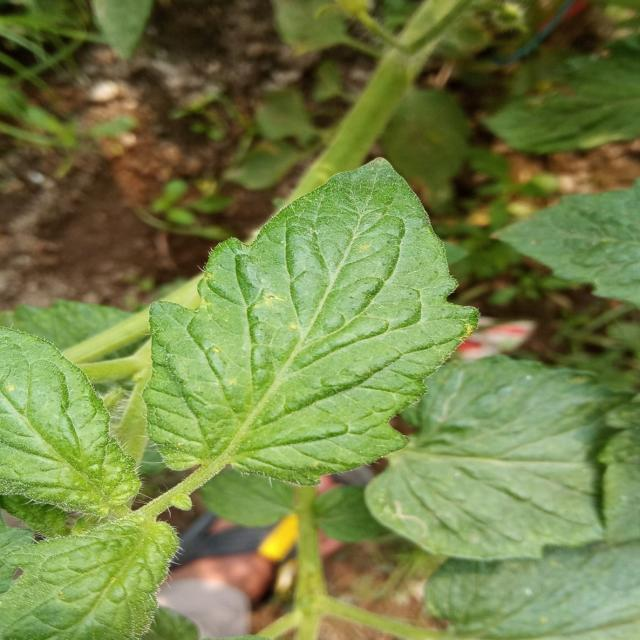Healthy: (85, 145, 523, 554)
